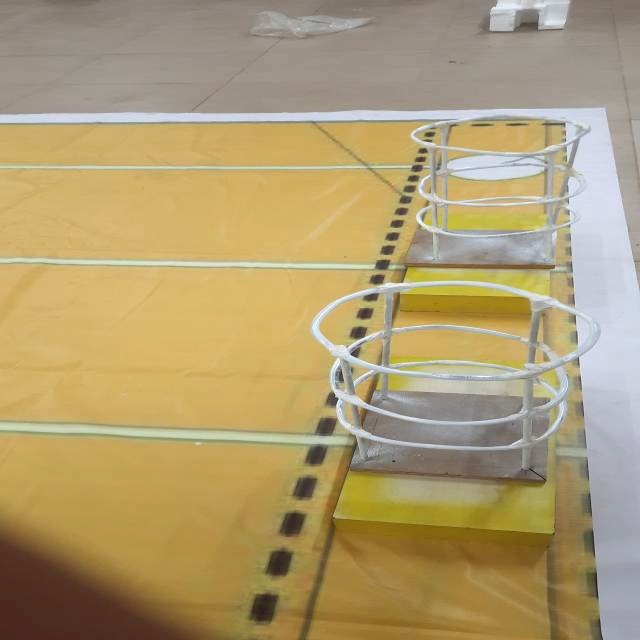silo: (294, 280, 597, 480), (366, 97, 610, 278)
